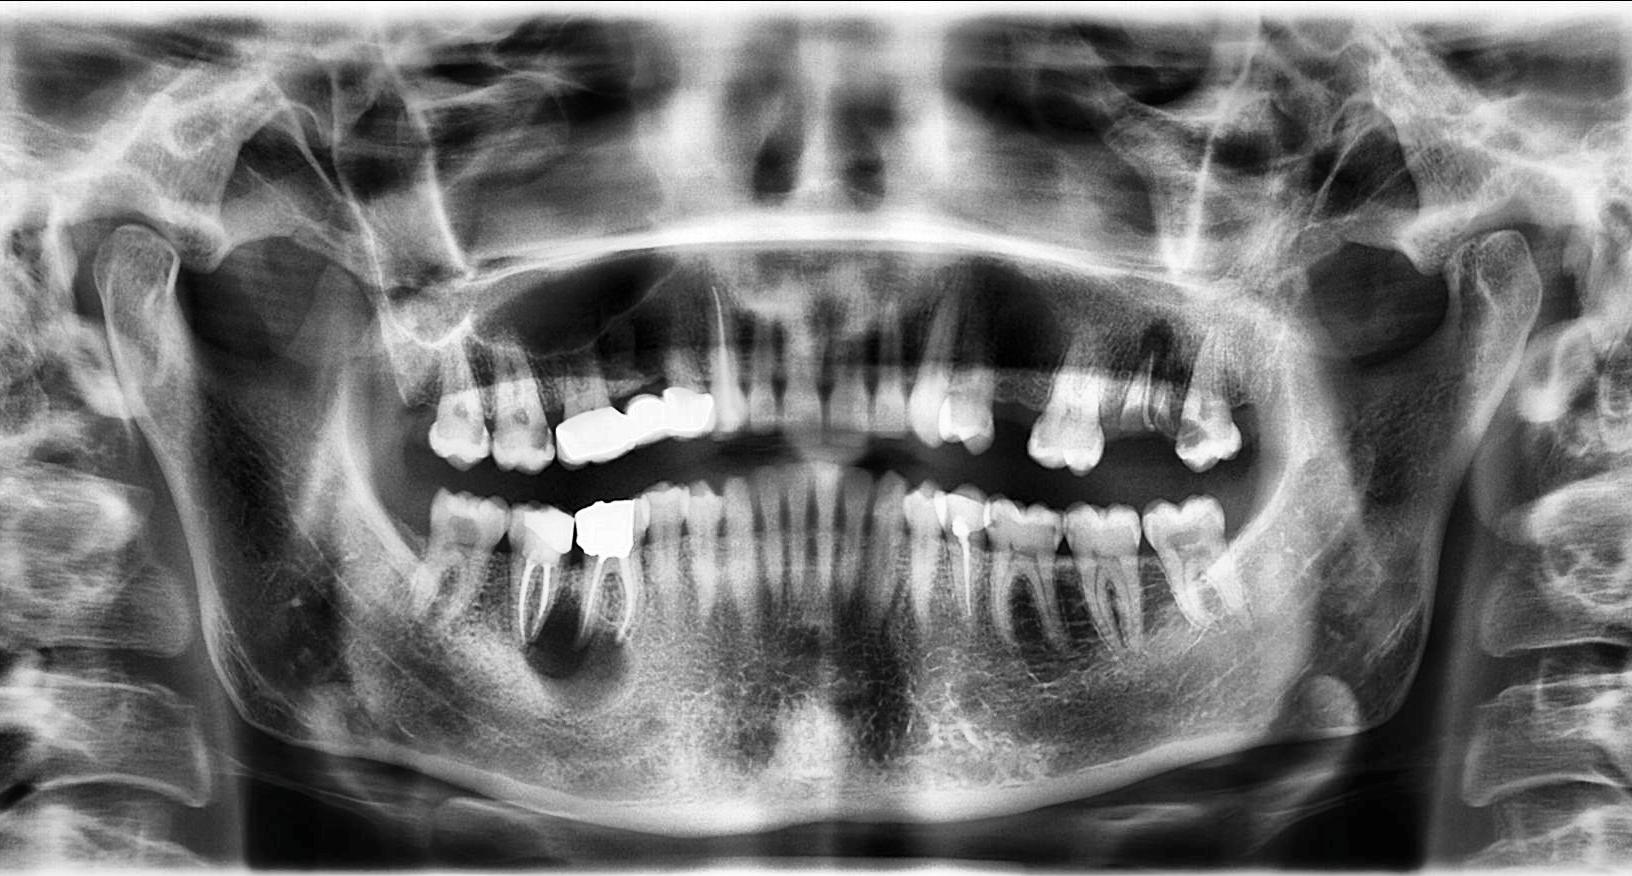radicular: (514, 582, 640, 721)
